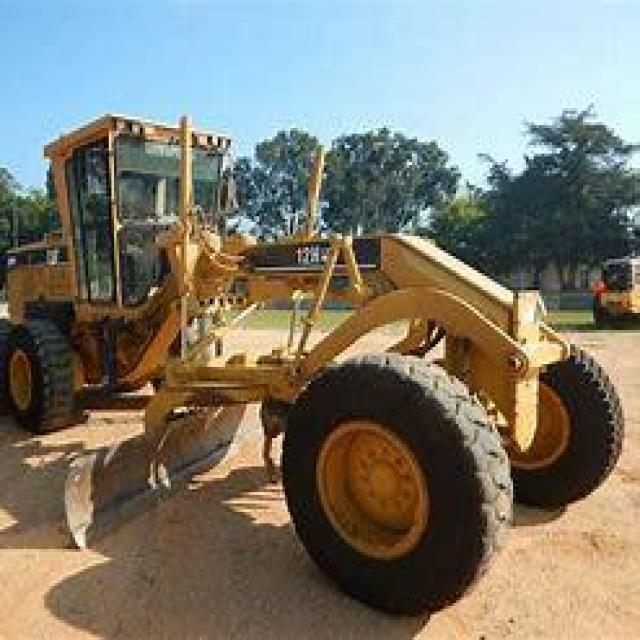Grader: (13, 108, 637, 603)
